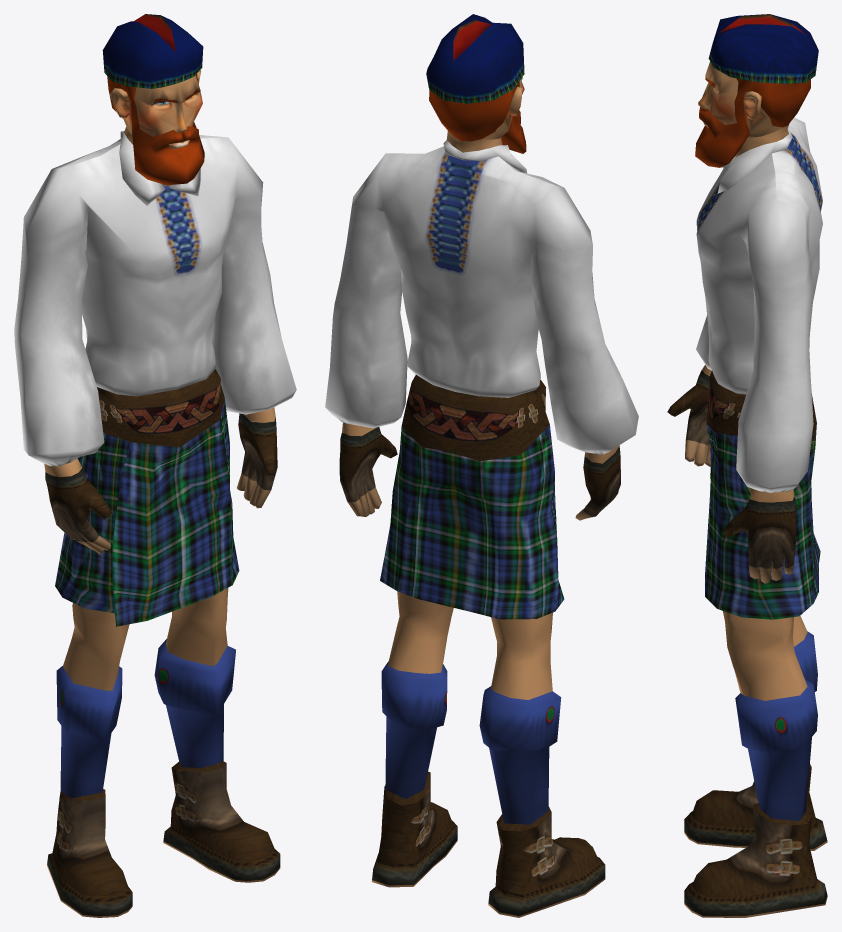
File: Ewan Mac Gore.glb
3 renders of one model, left to right at view 1: azimuth 30°, elevation 25°; view 2: azimuth 150°, elevation 25°; view 3: azimuth 270°, elevation 25°, orthographic.
Parts seen in each view (by area): view 1: EwanOK; view 2: EwanOK; view 3: EwanOK.
Boxes of the visible parts, bbox=[...] form: EwanOK: bbox=[14, 14, 296, 917]; EwanOK: bbox=[325, 14, 638, 917]; EwanOK: bbox=[667, 14, 827, 917].
Size of the model in its own units: 1.58 by 4.5 by 0.7695.
Materials: 1 (1 with a texture image).
